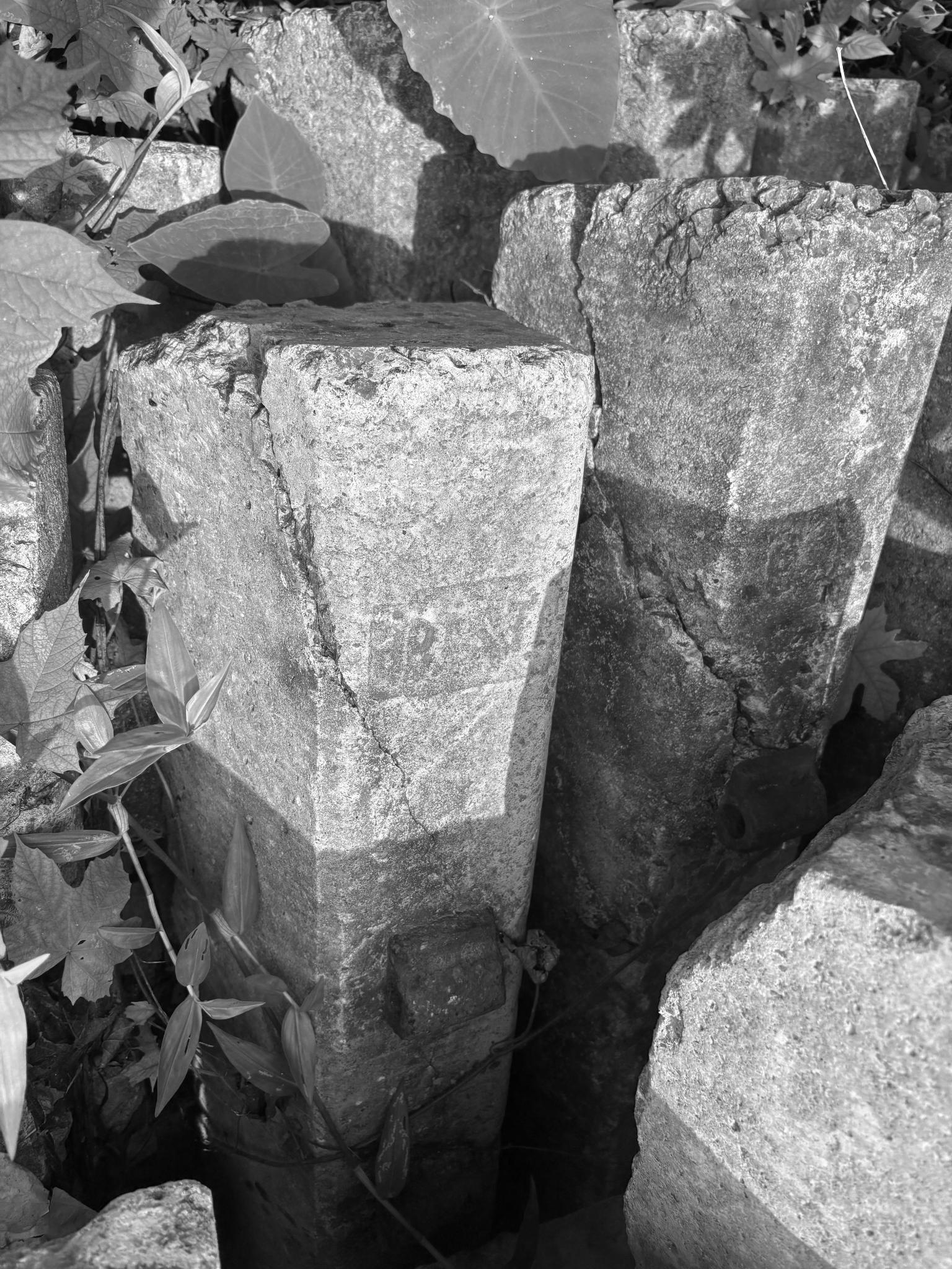cracks under rail seat: (159, 271, 488, 944), (523, 424, 810, 795), (785, 365, 883, 711), (562, 181, 620, 421)
